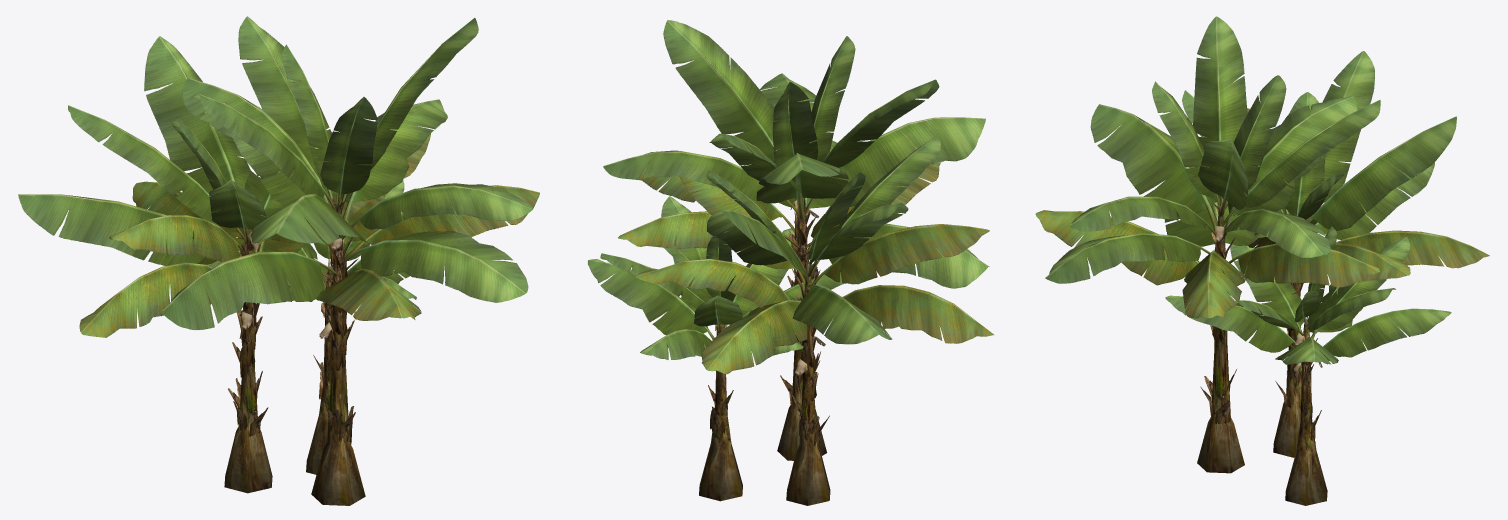
Rendered from MK4_BananaTree2.DAE.
3 renders of one model, left to right at view 1: azimuth 30°, elevation 25°; view 2: azimuth 150°, elevation 25°; view 3: azimuth 270°, elevation 25°, orthographic. The views are drawn at different scales.
Parts seen in each view (by area): view 1: MK4_BananaTree2; view 2: MK4_BananaTree2; view 3: MK4_BananaTree2.
Part boxes in pixels (box(x1,y1,x2,y2)): MK4_BananaTree2: box(18, 16, 539, 505); MK4_BananaTree2: box(588, 20, 993, 505); MK4_BananaTree2: box(1035, 16, 1489, 505).
Size of what is drawn, in the model's own units: 13.53 by 14.26 by 13.59.
